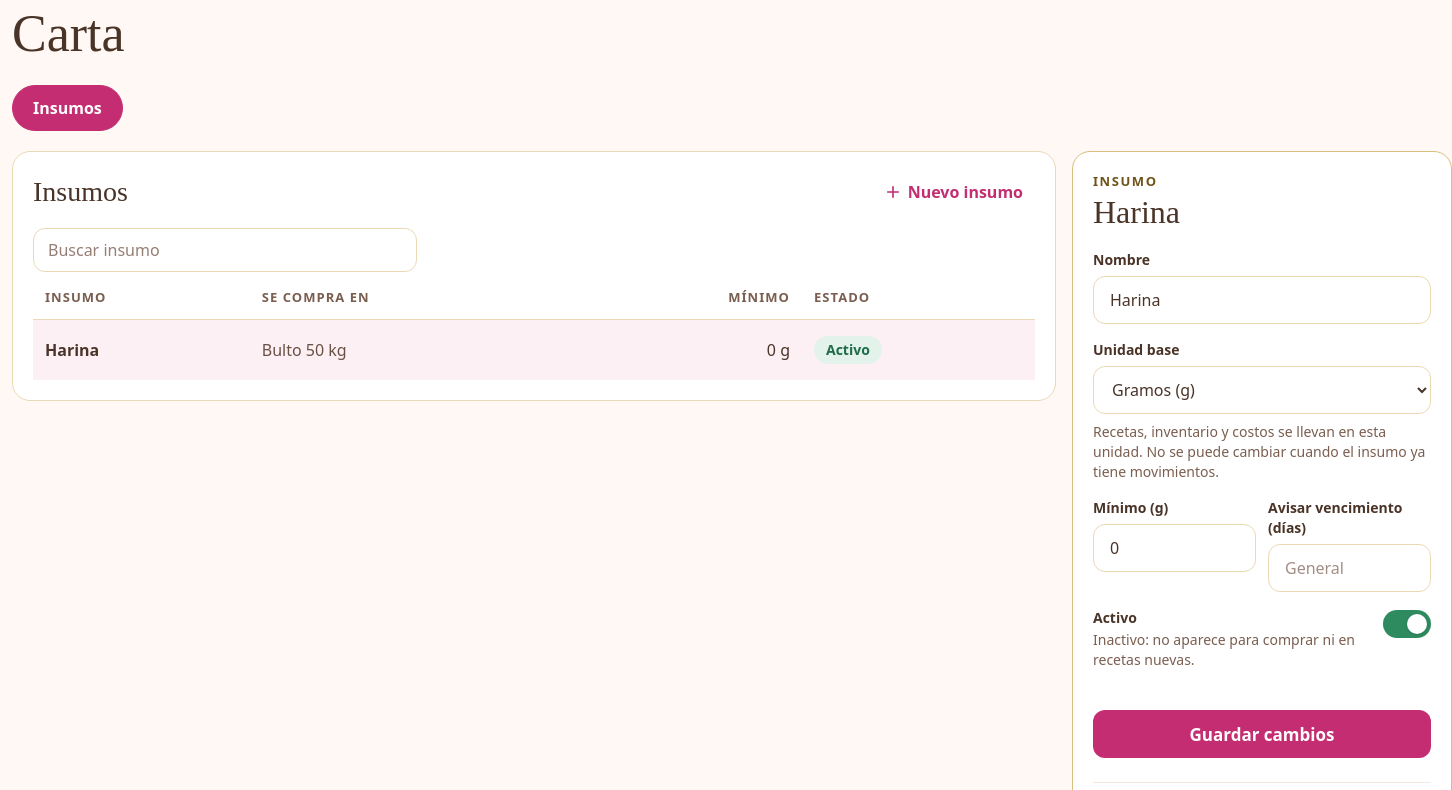
Carta › al cambiar la unidad del insumo, las presentaciones hablan de la nueva unidad
Select "Mililitros (ml)" in the dropdown labelled "Unidad base" at (1262, 390), box x1=1093 y1=366 x2=1431 y2=414
(page scrolled)
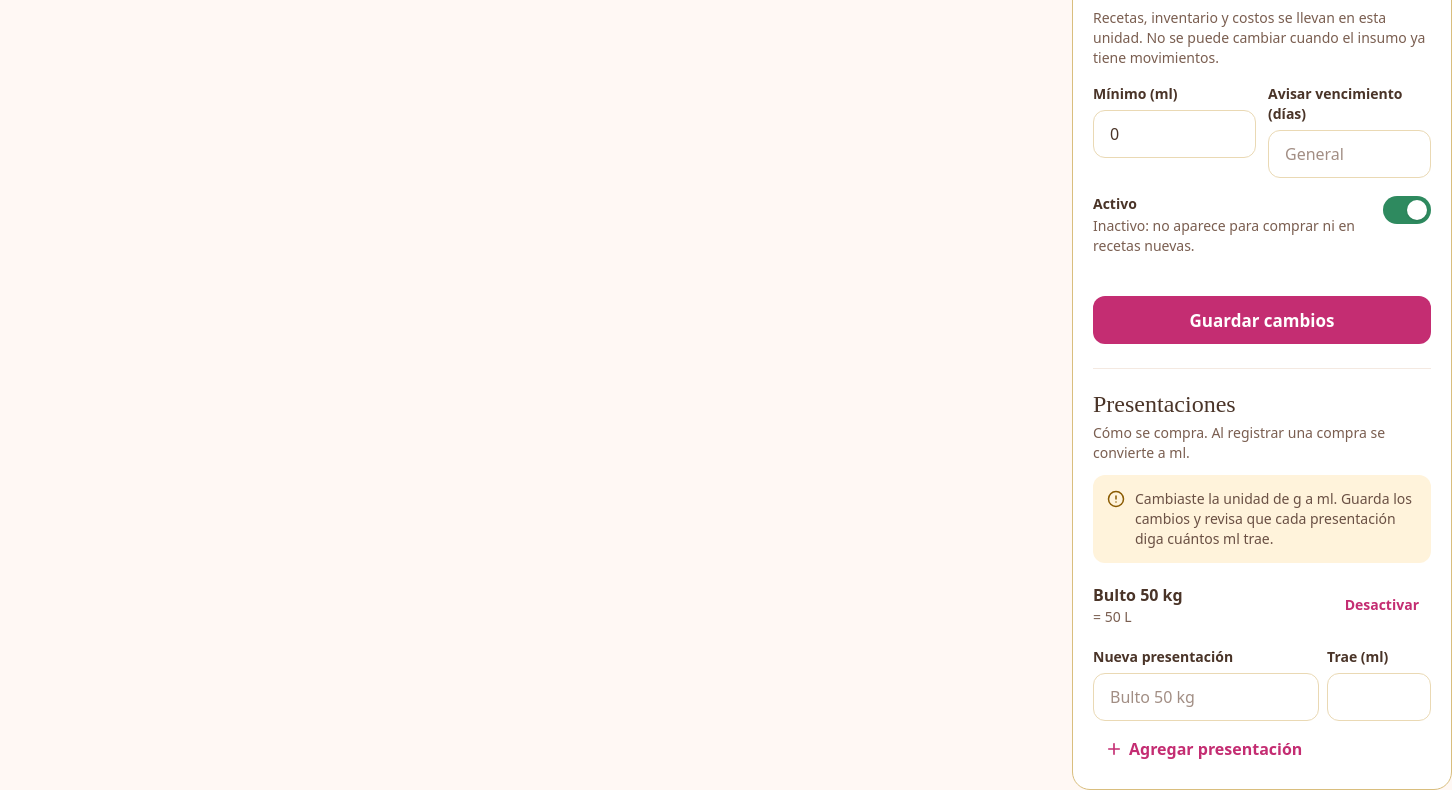
Expected: the field labelled "Trae (ml)" is shown, x1=1327 y1=673 x2=1431 y2=721
Now the text "= 50 L" is shown, box x1=1093 y1=607 x2=1132 y2=626
Now the text "Cambiaste la unidad de g a ml" is shown, box x1=1135 y1=489 x2=1417 y2=549
